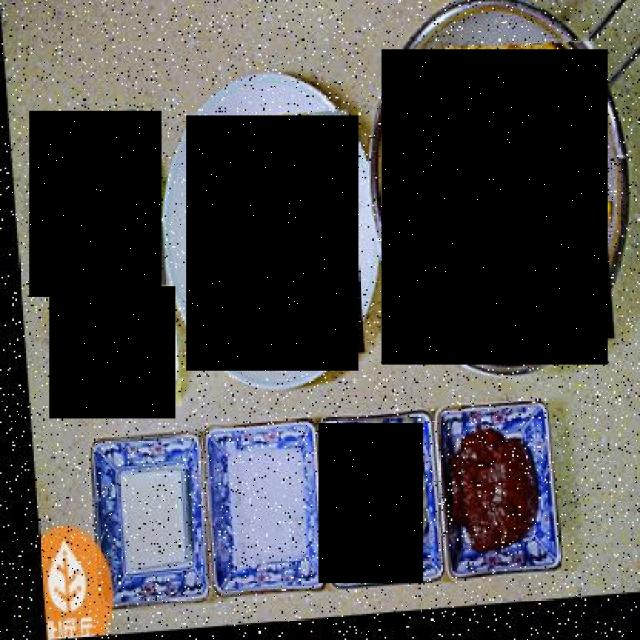Capsicum: (30, 111, 162, 297)
Cheese: (187, 115, 359, 371)
Corn: (382, 49, 608, 365)
Onion: (50, 287, 175, 418)
mayonnaise: (319, 423, 423, 583)
